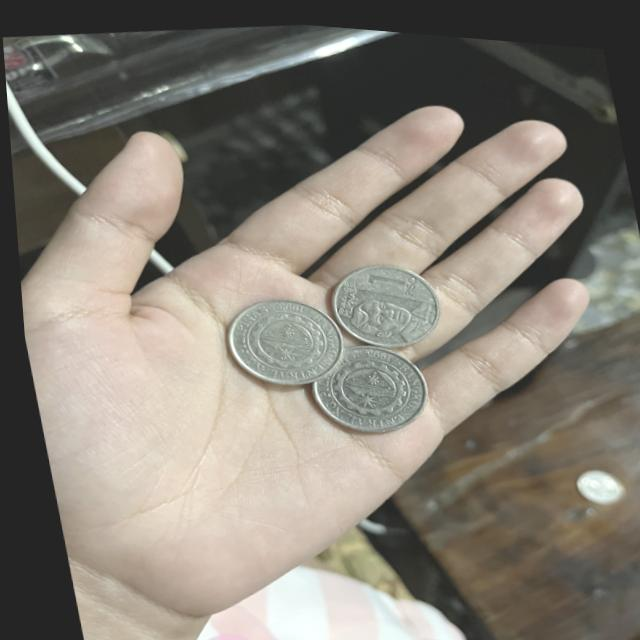1_New_Front: (337, 257, 428, 340)
1_Old_Back: (233, 294, 334, 378)
